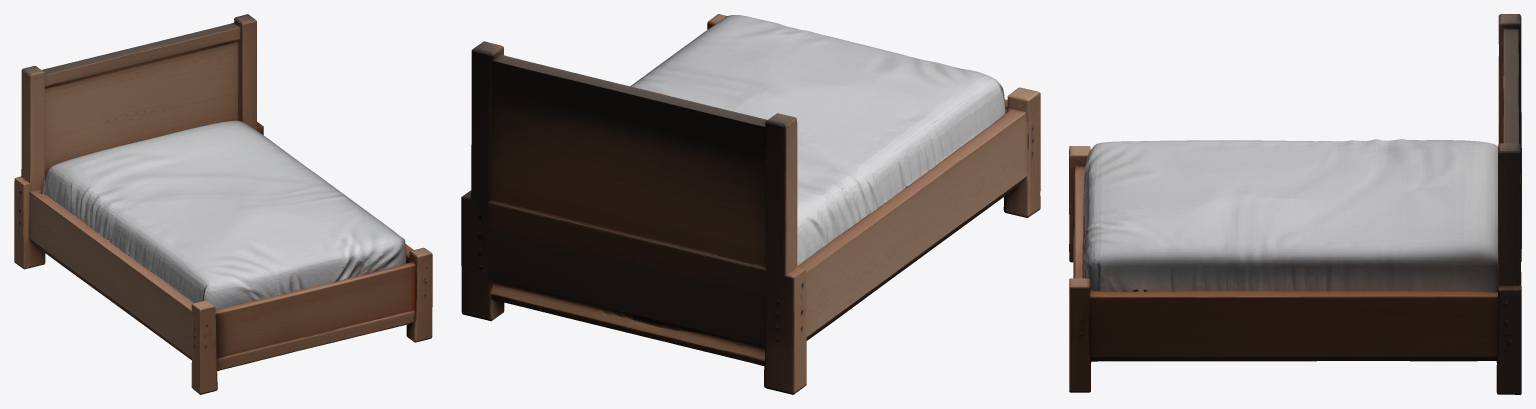
Rendered from bed.glb.
The picture shows the model from 3 angles, left to right: view 1: azimuth 30°, elevation 25°; view 2: azimuth 150°, elevation 25°; view 3: azimuth 270°, elevation 25°; orthographic projection. The views are drawn at different scales.
Visible parts, largest first — view 1: world; view 2: world; view 3: world.
Part boxes in pixels (<box>): world: <box>14,14,432,394</box>; world: <box>461,14,1040,394</box>; world: <box>1069,14,1521,394</box>.
Bounding box in the file's own units: 0.7682 × 0.5882 × 1.
Materials: 1 (1 with a texture image).
